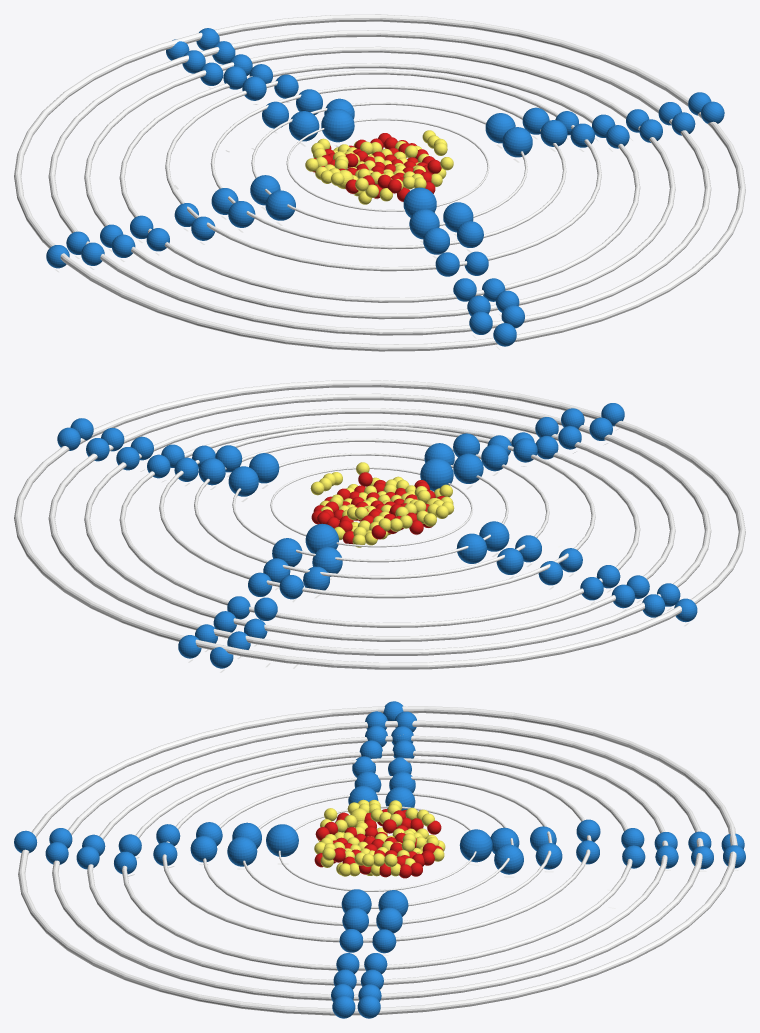
3 renders of one model, top to bottom at view 1: azimuth 30°, elevation 25°; view 2: azimuth 150°, elevation 25°; view 3: azimuth 270°, elevation 25°, orthographic.
Visible parts, largest first — view 1: Torus.008, Torus.007, Torus.006, Torus.005, Torus.004, Torus.003, Torus.002, Torus.001, g, g.005, g.003, g.001 (+9 smaller); view 2: Torus.008, Torus.007, Torus.006, Torus.005, Torus.004, Torus.003, Torus.002, Torus.001, g.001, g, g.006, g.004 (+12 smaller); view 3: Torus.008, Torus.007, Torus.006, Torus.005, Torus.004, Torus.003, Torus.002, g.001, g, Torus.001, g.007, g.009 (+5 smaller).
Part boxes in pixels (x1=…): Torus.008: x1=14, y1=14, x2=745, y2=351; Torus.007: x1=48, y1=30, x2=711, y2=335; Torus.006: x1=84, y1=46, x2=675, y2=319; Torus.005: x1=119, y1=63, x2=640, y2=302; Torus.004: x1=165, y1=70, x2=601, y2=271; Torus.003: x1=210, y1=85, x2=566, y2=249; Torus.002: x1=251, y1=102, x2=527, y2=229; Torus.001: x1=286, y1=118, x2=489, y2=211; g: x1=321, y1=109, x2=354, y2=142; g.005: x1=502, y1=127, x2=532, y2=157; g.003: x1=265, y1=190, x2=295, y2=220; g.001: x1=403, y1=187, x2=436, y2=217; Torus.008: x1=14, y1=380, x2=745, y2=669; Torus.007: x1=48, y1=393, x2=711, y2=655; Torus.006: x1=84, y1=408, x2=675, y2=641; Torus.005: x1=119, y1=422, x2=640, y2=627; Torus.004: x1=159, y1=425, x2=595, y2=598; Torus.003: x1=194, y1=438, x2=549, y2=579; Torus.002: x1=232, y1=453, x2=508, y2=562; Torus.001: x1=270, y1=467, x2=472, y2=547; g.001: x1=420, y1=458, x2=453, y2=491; g: x1=305, y1=523, x2=338, y2=553; g.006: x1=453, y1=453, x2=483, y2=483; g.004: x1=228, y1=466, x2=258, y2=496; Torus.008: x1=18, y1=706, x2=737, y2=1015; Torus.007: x1=52, y1=720, x2=703, y2=1000; Torus.006: x1=87, y1=735, x2=668, y2=985; Torus.005: x1=122, y1=751, x2=632, y2=970; Torus.004: x1=162, y1=758, x2=591, y2=942; Torus.003: x1=203, y1=776, x2=552, y2=926; Torus.002: x1=243, y1=792, x2=513, y2=908; g.001: x1=266, y1=824, x2=298, y2=856; g: x1=459, y1=829, x2=492, y2=862; Torus.001: x1=278, y1=806, x2=476, y2=891; g.007: x1=227, y1=836, x2=257, y2=866; g.009: x1=494, y1=844, x2=523, y2=874.
Size of the model in its own units: 22.22 by 2.85 by 22.03.
